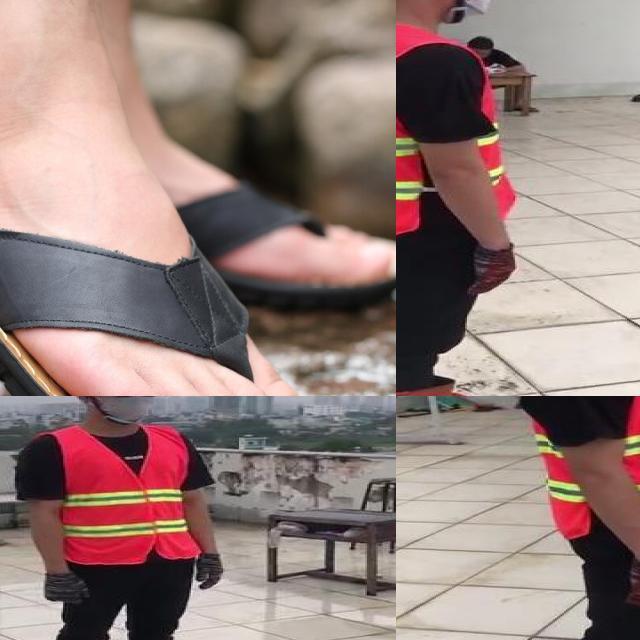Sandals: (0, 72, 365, 396)
face_mask: (89, 396, 162, 424), (439, 0, 508, 18)
glasses: (94, 396, 164, 401)
hand_glove: (467, 246, 515, 297), (190, 552, 236, 593), (51, 572, 86, 604), (622, 557, 640, 608)
person: (396, 0, 547, 396), (7, 396, 221, 640), (497, 396, 640, 640)
vest: (396, 22, 513, 238), (38, 428, 200, 564), (514, 396, 640, 537)
